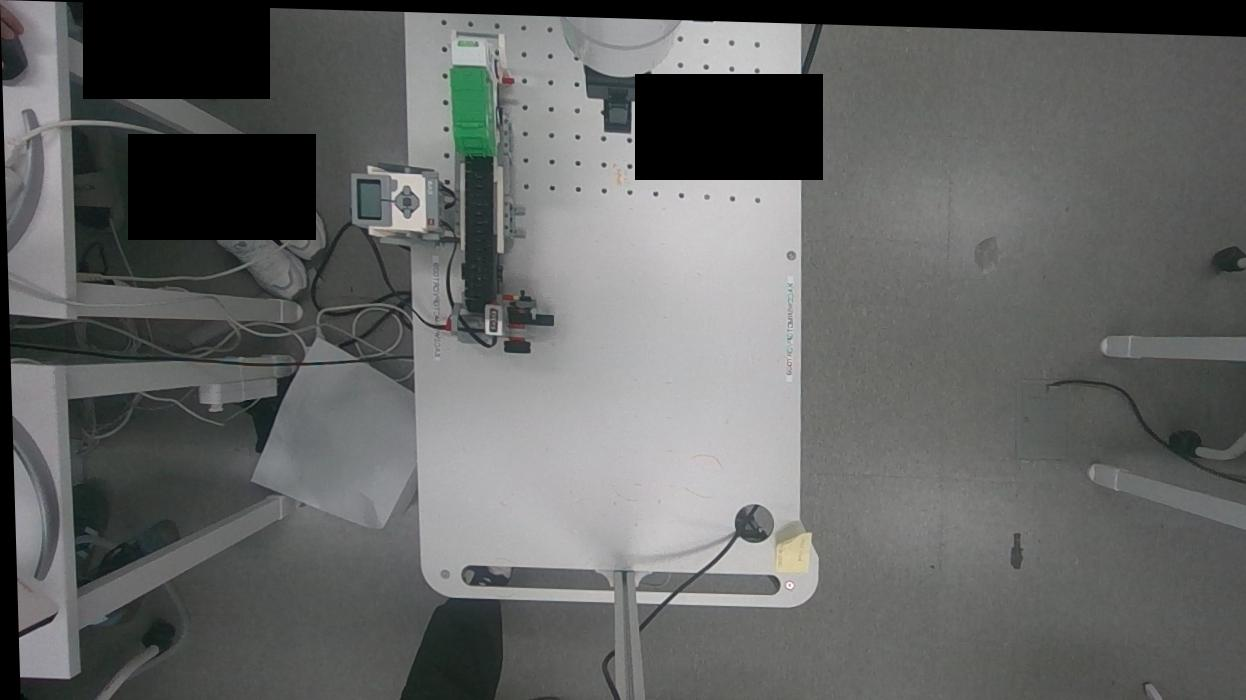truck: (431, 34, 514, 168)
